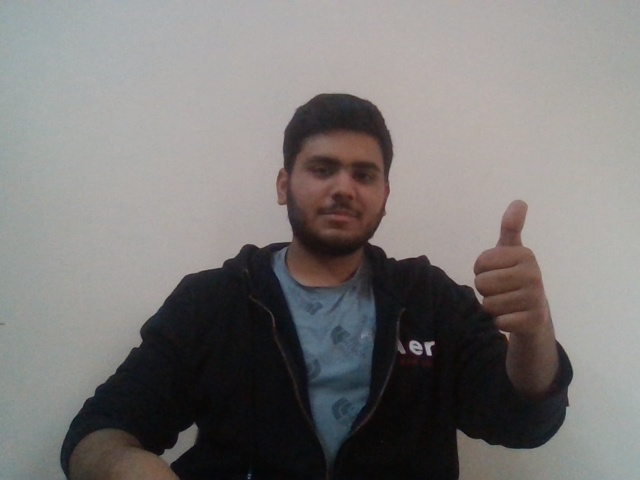Yes: (454, 194, 560, 335)
